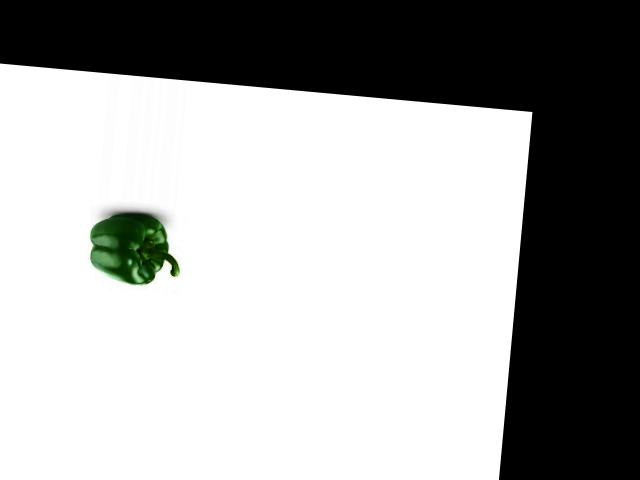bell_pepper: (83, 210, 186, 289)
